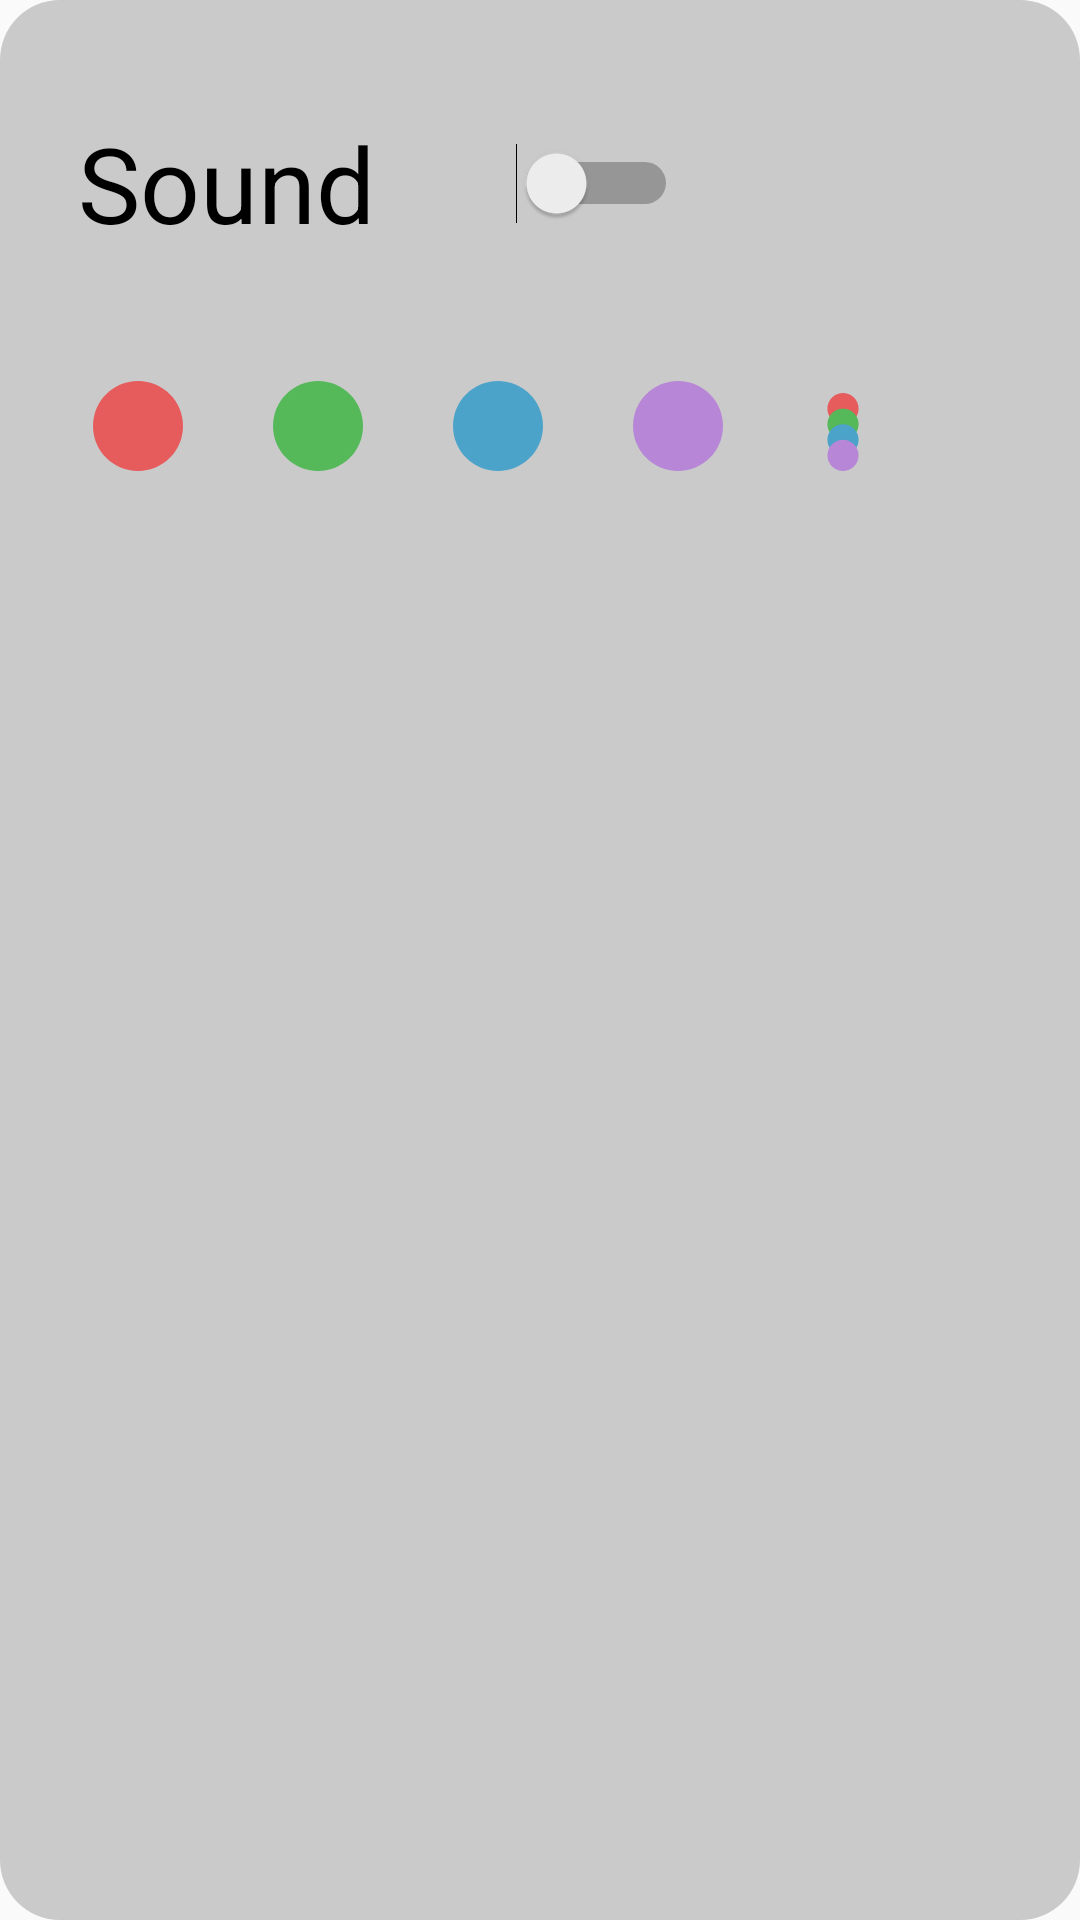

Named icons in this screenshot (1080x1920) and their bounding boxes, (x1,y1,x2,y2):
Allows rainbow to be selected as color: (827,393,859,471)
